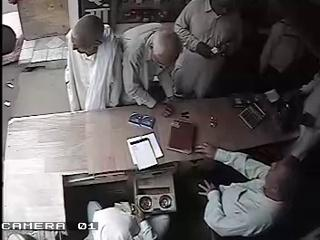Normal: (196, 122, 320, 239), (172, 0, 244, 100), (118, 22, 182, 117), (65, 14, 123, 112)
